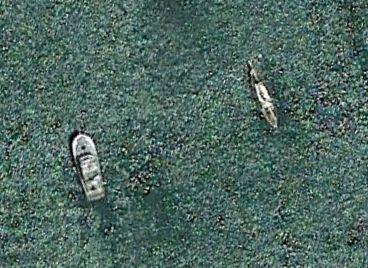Ships: (236, 57, 286, 143), (70, 124, 115, 212)
